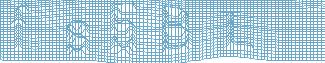5: (106, 1, 140, 59)
B: (158, 3, 194, 56)
L: (223, 10, 254, 53)
f: (8, 3, 31, 54)
s: (64, 19, 92, 58)
